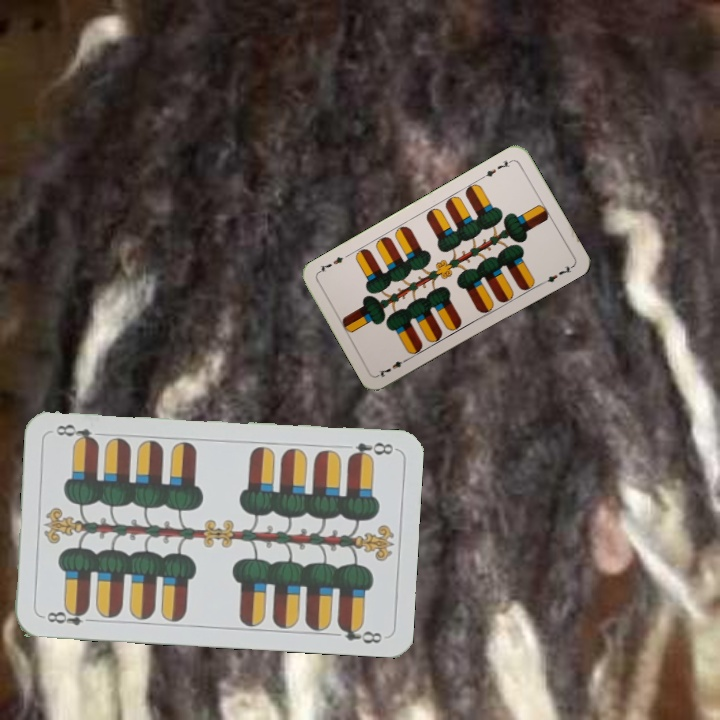E7: (374, 354, 412, 380), (478, 155, 515, 181)
E8: (42, 604, 98, 628), (344, 438, 398, 462)
